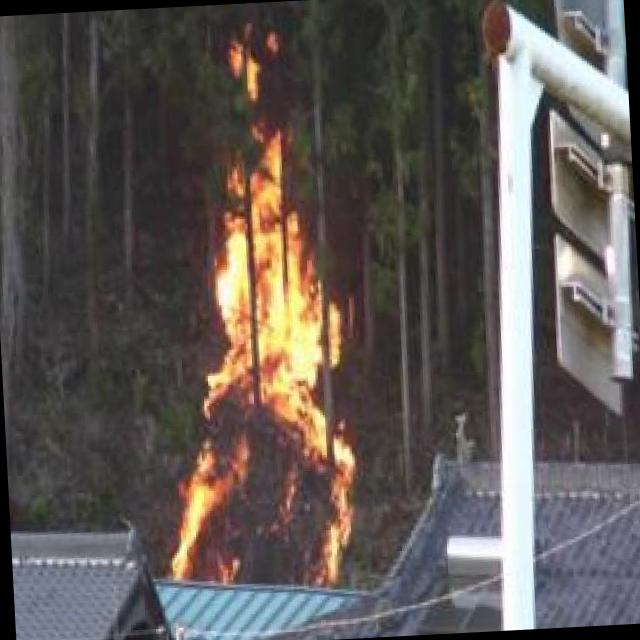Fire: (144, 134, 370, 593)
